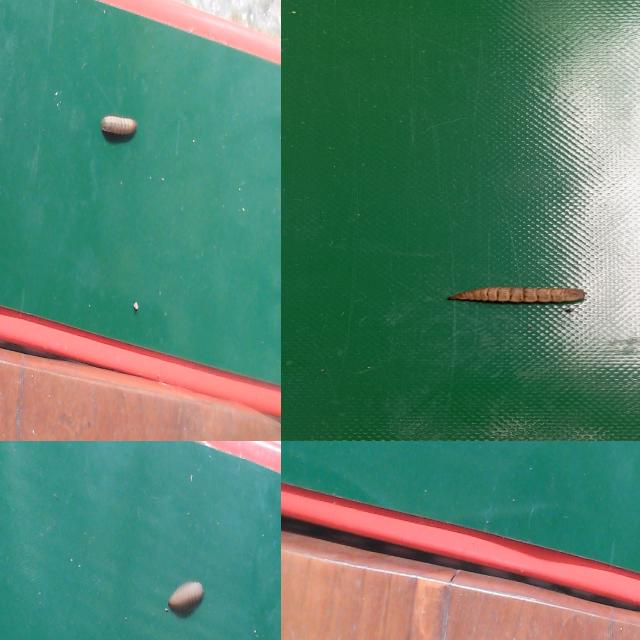Maggot: (446, 287, 586, 308), (167, 580, 205, 620), (100, 115, 138, 145)
